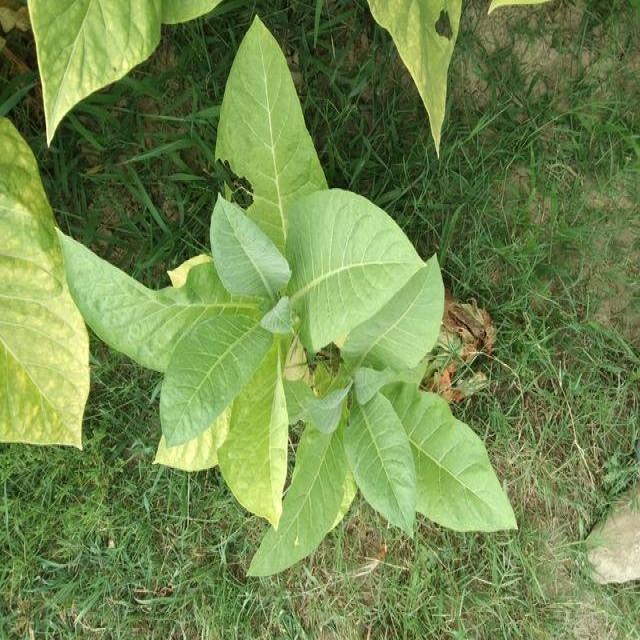crop: (169, 13, 542, 581)
